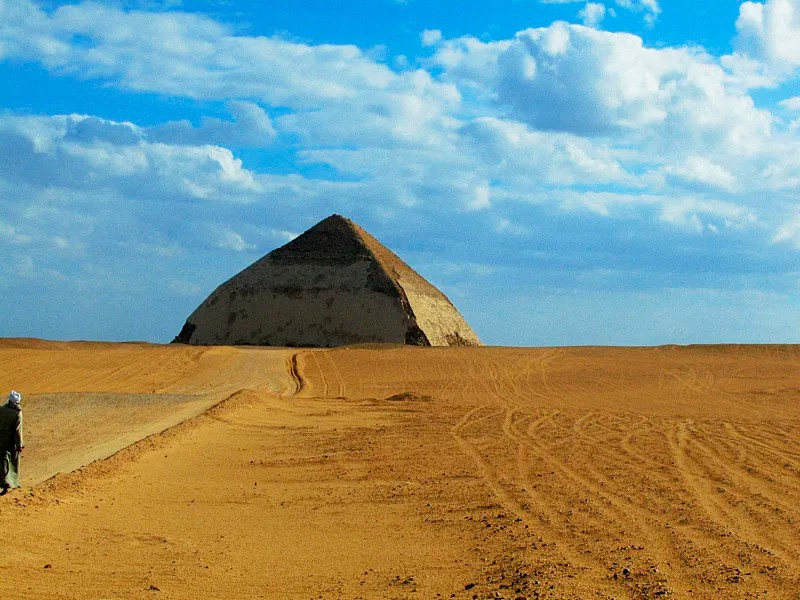Pyramid: (170, 215, 484, 345)
